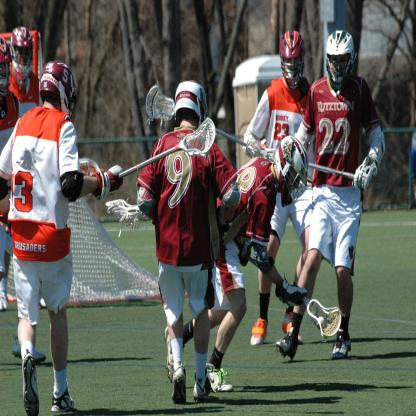Helmet: (273, 134, 307, 206), (39, 61, 77, 119), (324, 26, 356, 90), (174, 77, 209, 132), (281, 28, 308, 87), (8, 22, 34, 81), (0, 35, 16, 100)
